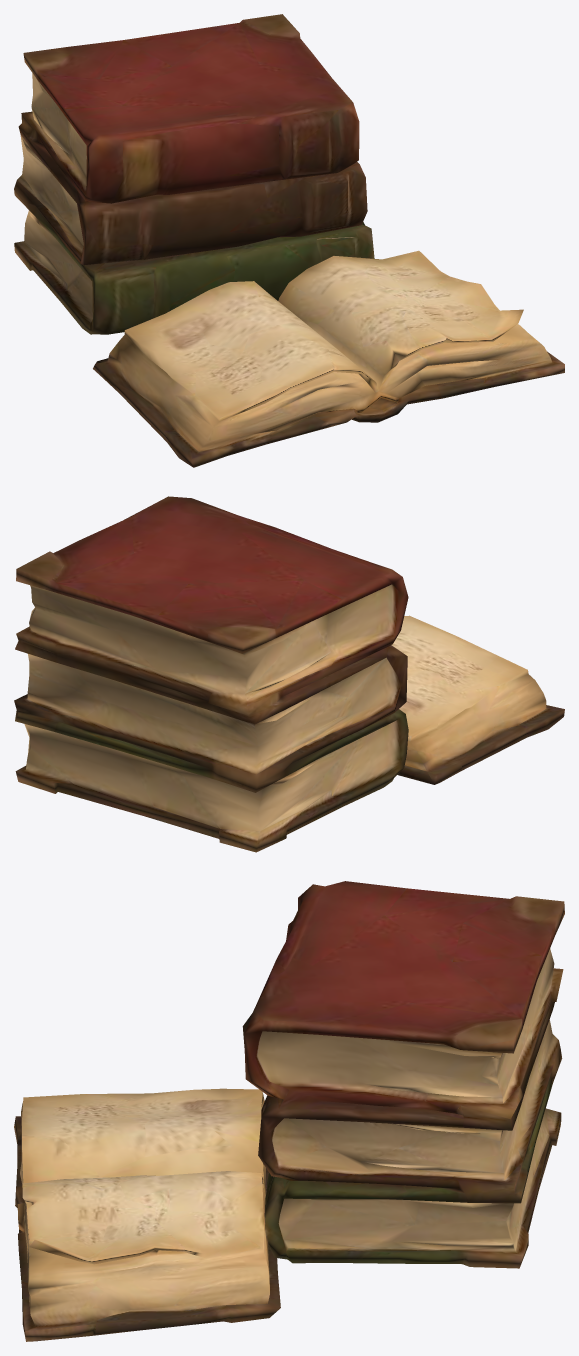
The model's file is book_set.glb.
3 renders of one model, top to bottom at view 1: azimuth 30°, elevation 25°; view 2: azimuth 150°, elevation 25°; view 3: azimuth 270°, elevation 25°, orthographic. The views are drawn at different scales.
Visible parts, largest first — view 1: tripo_node_2f0a7c51-b628-488d-b0da-6bbf714c4078; view 2: tripo_node_2f0a7c51-b628-488d-b0da-6bbf714c4078; view 3: tripo_node_2f0a7c51-b628-488d-b0da-6bbf714c4078.
Part boxes in pixels (x1,y1,x2,y2): tripo_node_2f0a7c51-b628-488d-b0da-6bbf714c4078: (14, 14, 564, 467); tripo_node_2f0a7c51-b628-488d-b0da-6bbf714c4078: (14, 496, 564, 852); tripo_node_2f0a7c51-b628-488d-b0da-6bbf714c4078: (14, 881, 564, 1341).
Size of the model in its own units: 0.9057 by 0.5235 by 0.9801.
Materials: 1 (1 with a texture image).
